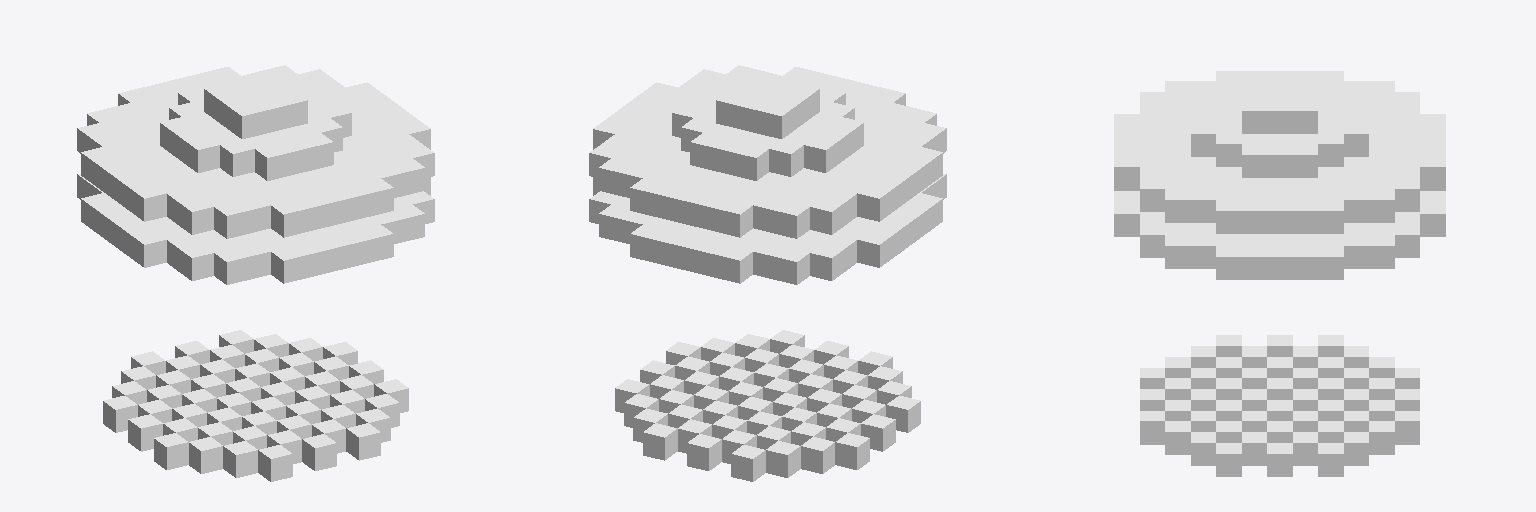
File: flying_saucer.obj
3 renders of one model, left to right at view 1: azimuth 30°, elevation 25°; view 2: azimuth 150°, elevation 25°; view 3: azimuth 270°, elevation 25°, orthographic.
Visible parts, largest first — view 1: object 1; view 2: object 1; view 3: object 1.
Part boxes in pixels (bbox=[...]): object 1: bbox=[77, 65, 434, 481]; object 1: bbox=[589, 65, 946, 481]; object 1: bbox=[1114, 71, 1445, 476].
Size of the model in its own units: 1.3 by 1.4 by 1.3.